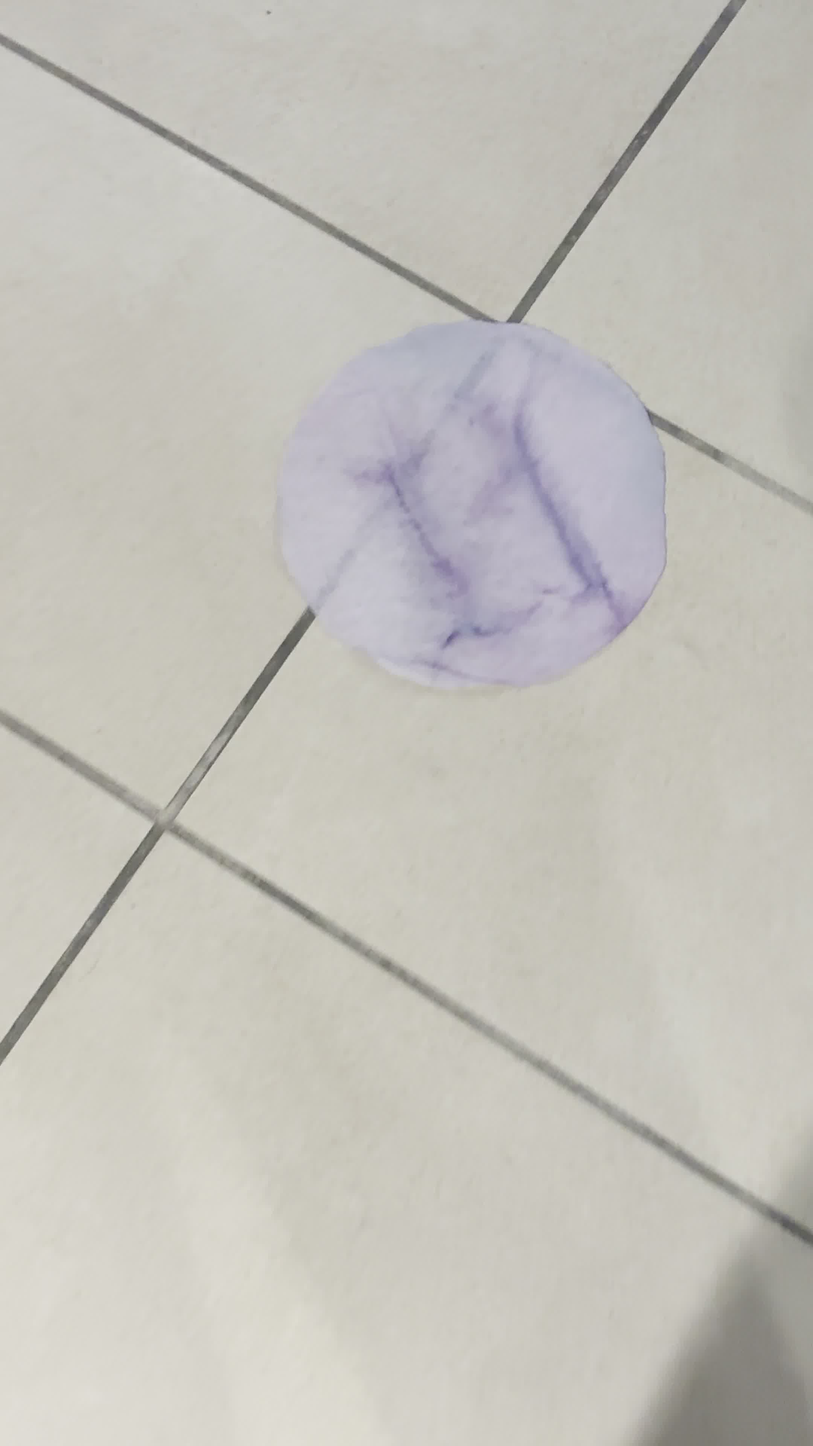Target: (274, 323, 669, 693)
